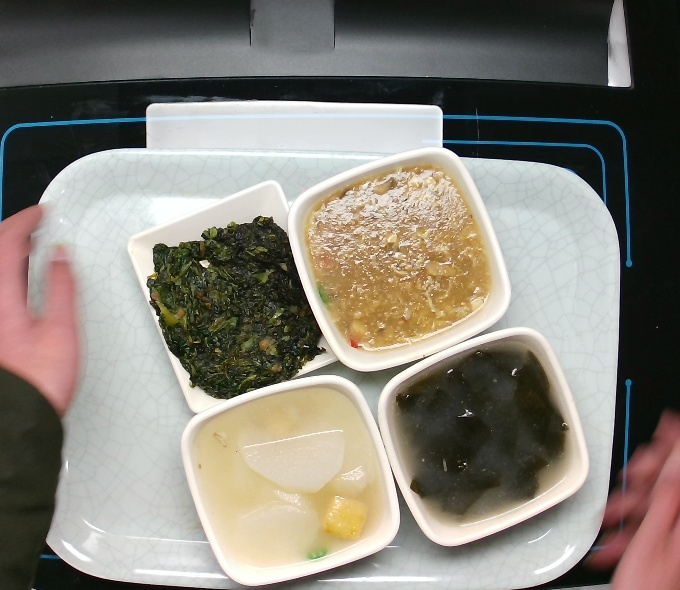wcq-HaiDaiPaiGuTang: (385, 342, 573, 526)
wcq-LuoBoYouPaoTang: (191, 384, 396, 576)
wcq-QinCaiBing: (143, 215, 327, 399)
wcq-SuanLaGeng: (306, 164, 493, 346)
